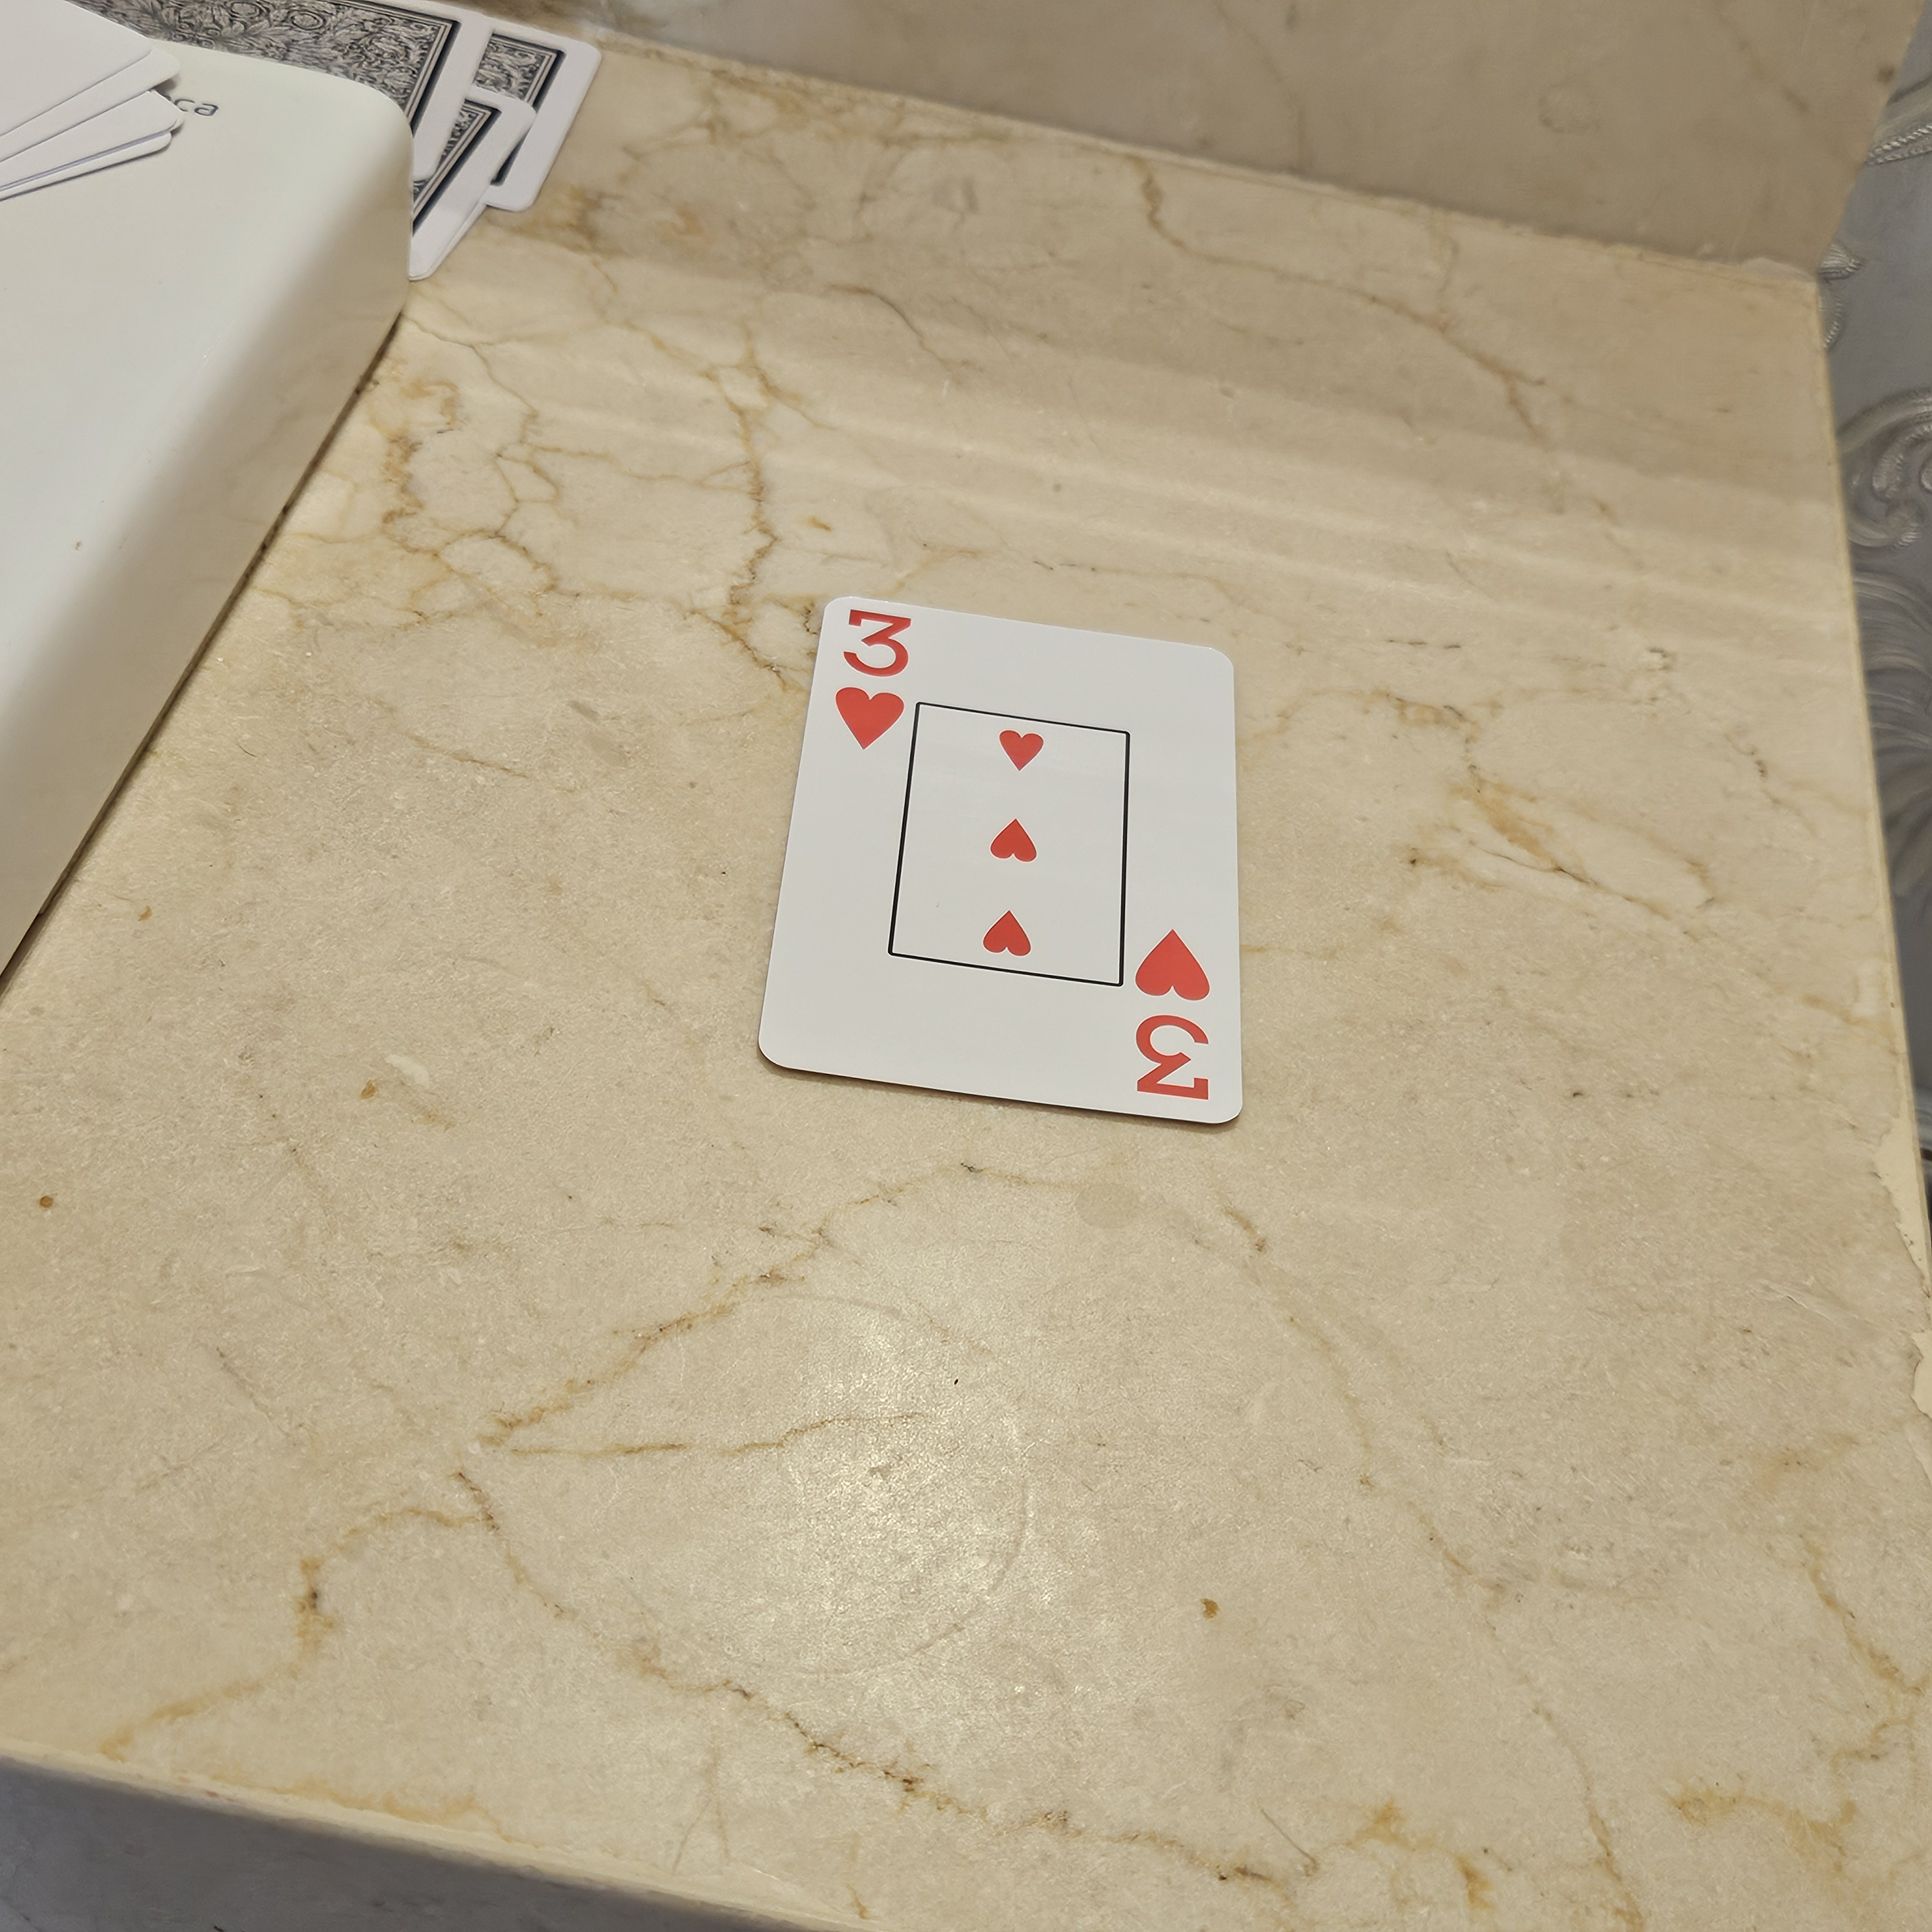3C: (1120, 918, 1228, 1122), (816, 589, 922, 764)
